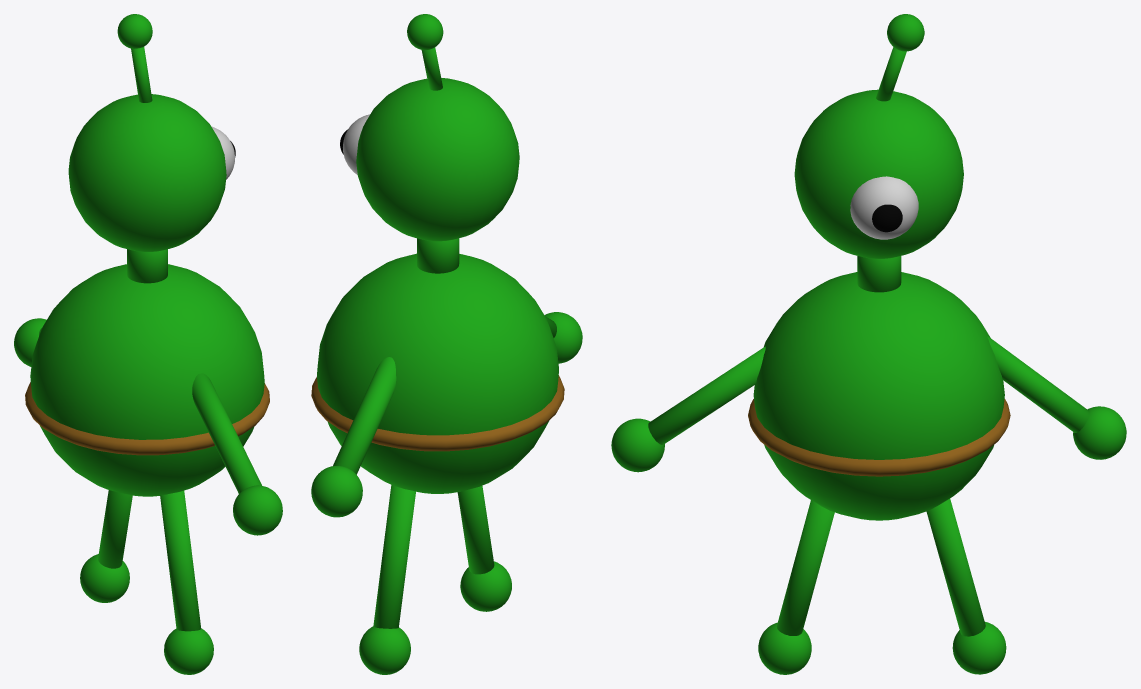
Rendered from Bob.obj.
3 renders of one model, left to right at view 1: azimuth 30°, elevation 25°; view 2: azimuth 150°, elevation 25°; view 3: azimuth 270°, elevation 25°, orthographic. The views are drawn at different scales.
Parts seen in each view (by area): view 1: Cylinder.001; view 2: Cylinder.001; view 3: Cylinder.001.
Boxes of the visible parts, x1,y1,x2,y2 form: Cylinder.001: [14, 14, 282, 674]; Cylinder.001: [311, 14, 582, 674]; Cylinder.001: [611, 14, 1126, 674].
Size of the model in its own units: 3.1 by 8.57 by 6.08.
